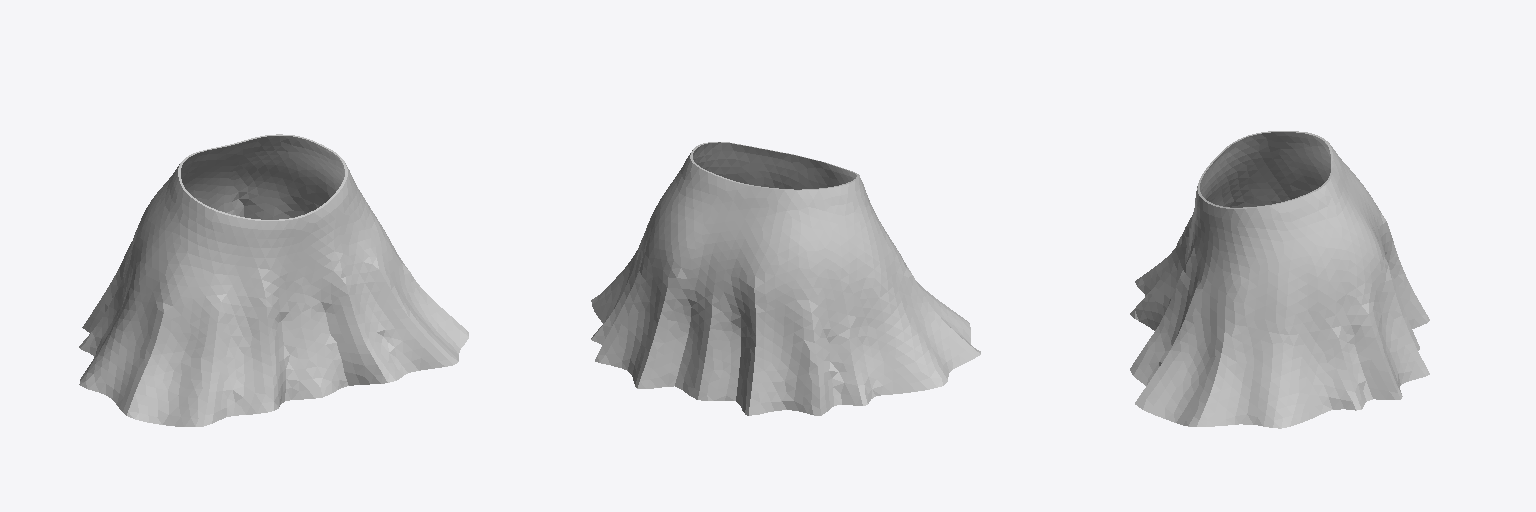
The model's file is skirt3448.obj.
The picture shows the model from 3 angles: view 1: azimuth 30°, elevation 25°; view 2: azimuth 150°, elevation 25°; view 3: azimuth 270°, elevation 25°; orthographic projection.
Bounding box in the file's own units: 0.495 × 0.252 × 0.3663.